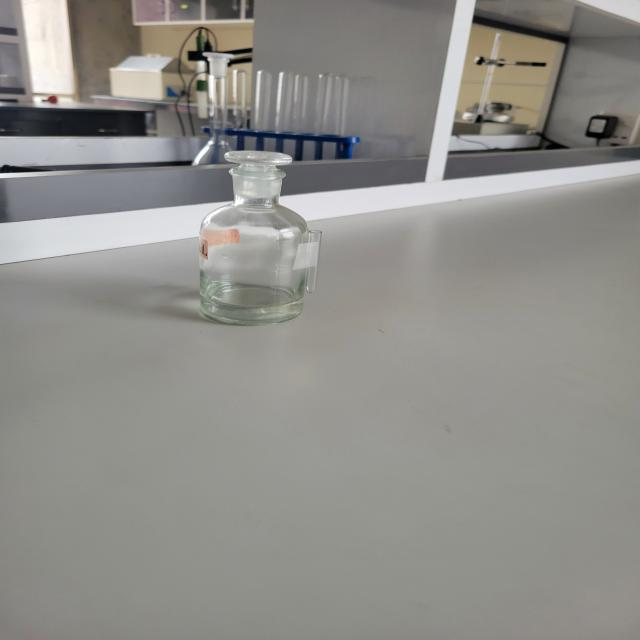Reagent_Bottle: (157, 120, 372, 340)
